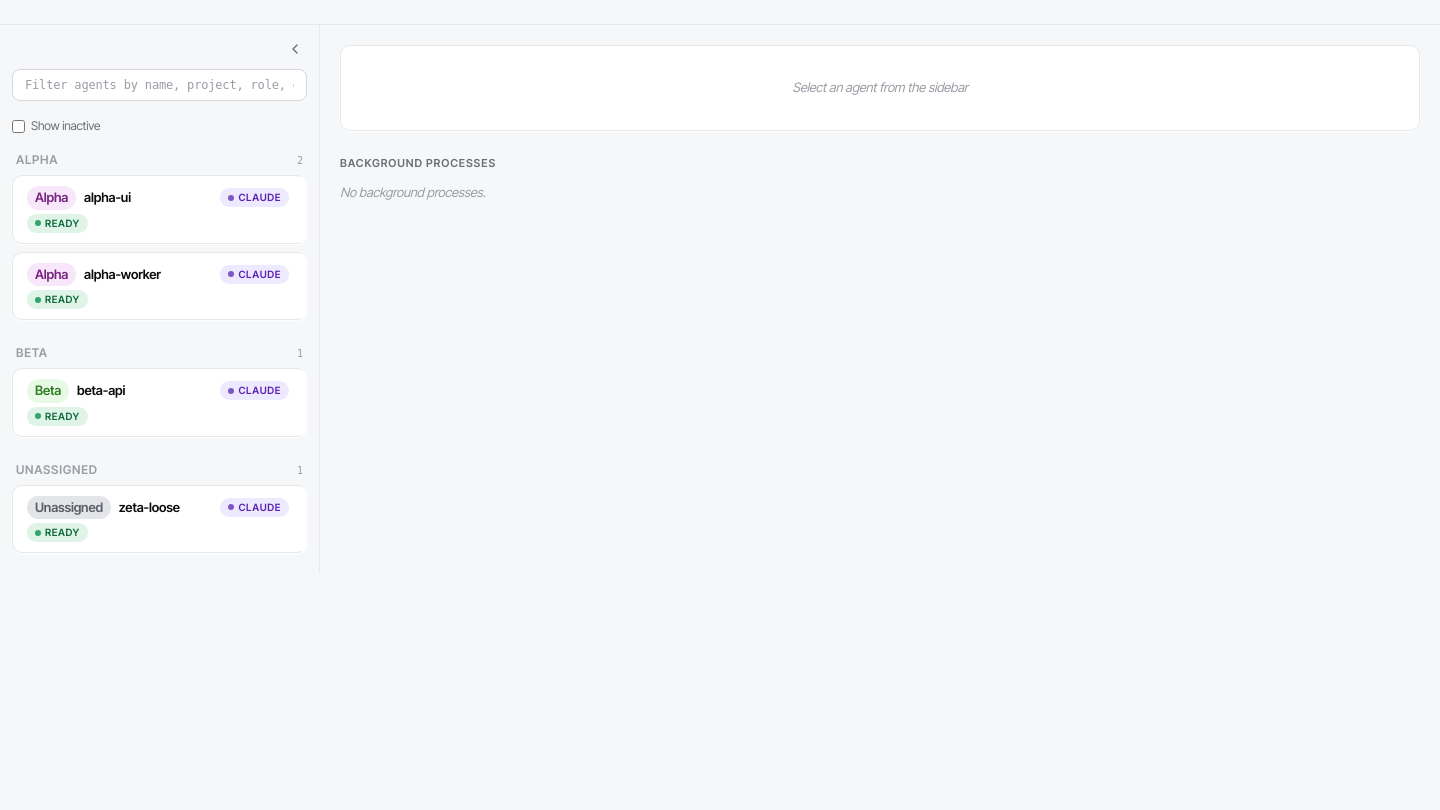
Test: AgentList sidebar (project grouping, TASK-0170) › switching rows remounts the view, dropping the previous agent's local state such as an open rename input (TASK-0173)
Step 1. Click the text "beta-api" → (101,390), box [77, 382, 125, 398]
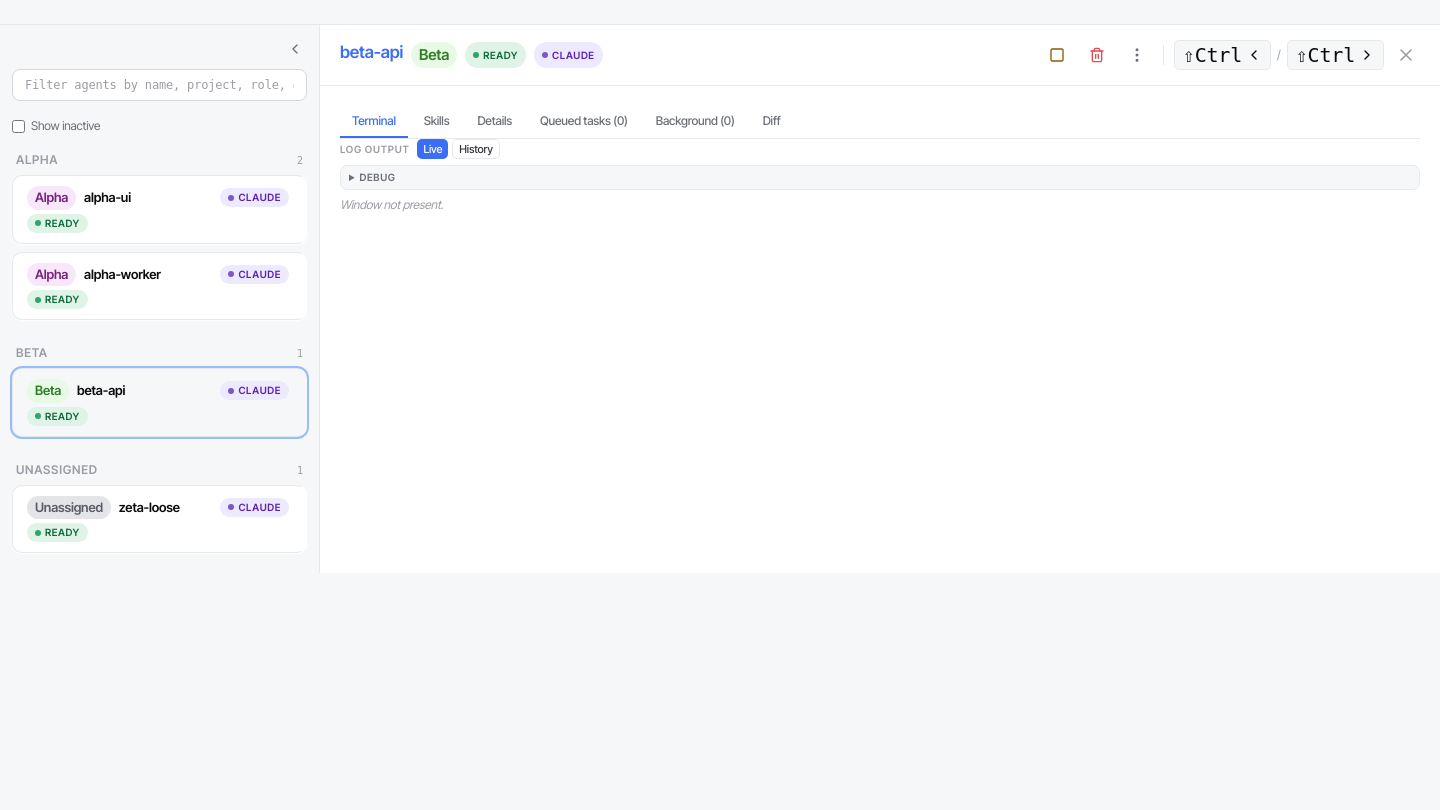
Step 2. Click the button named "Agent actions" → (1137,55), box [1121, 39, 1153, 71]
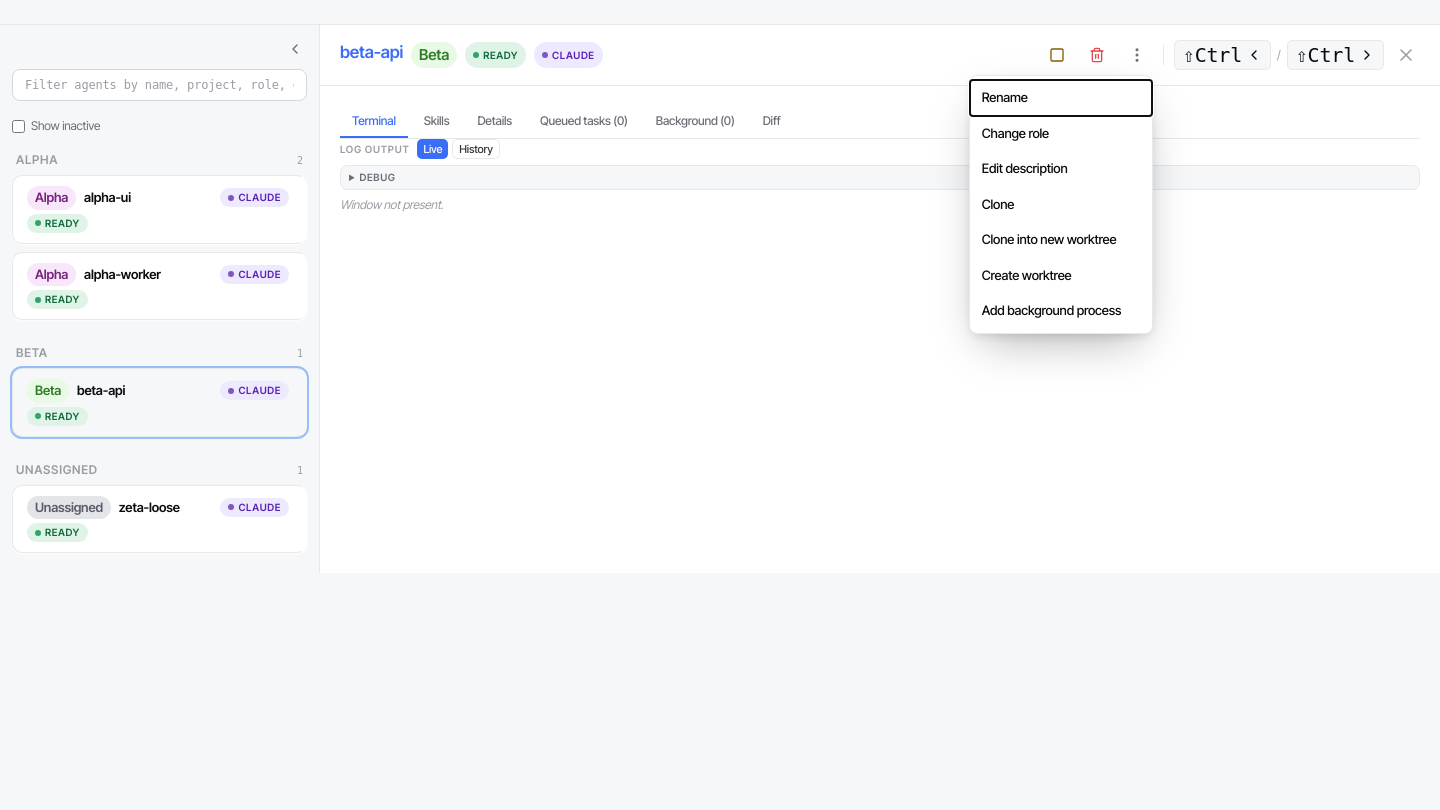
Step 3. Click the menu item "Rename" → (1061,98), box [970, 80, 1152, 116]
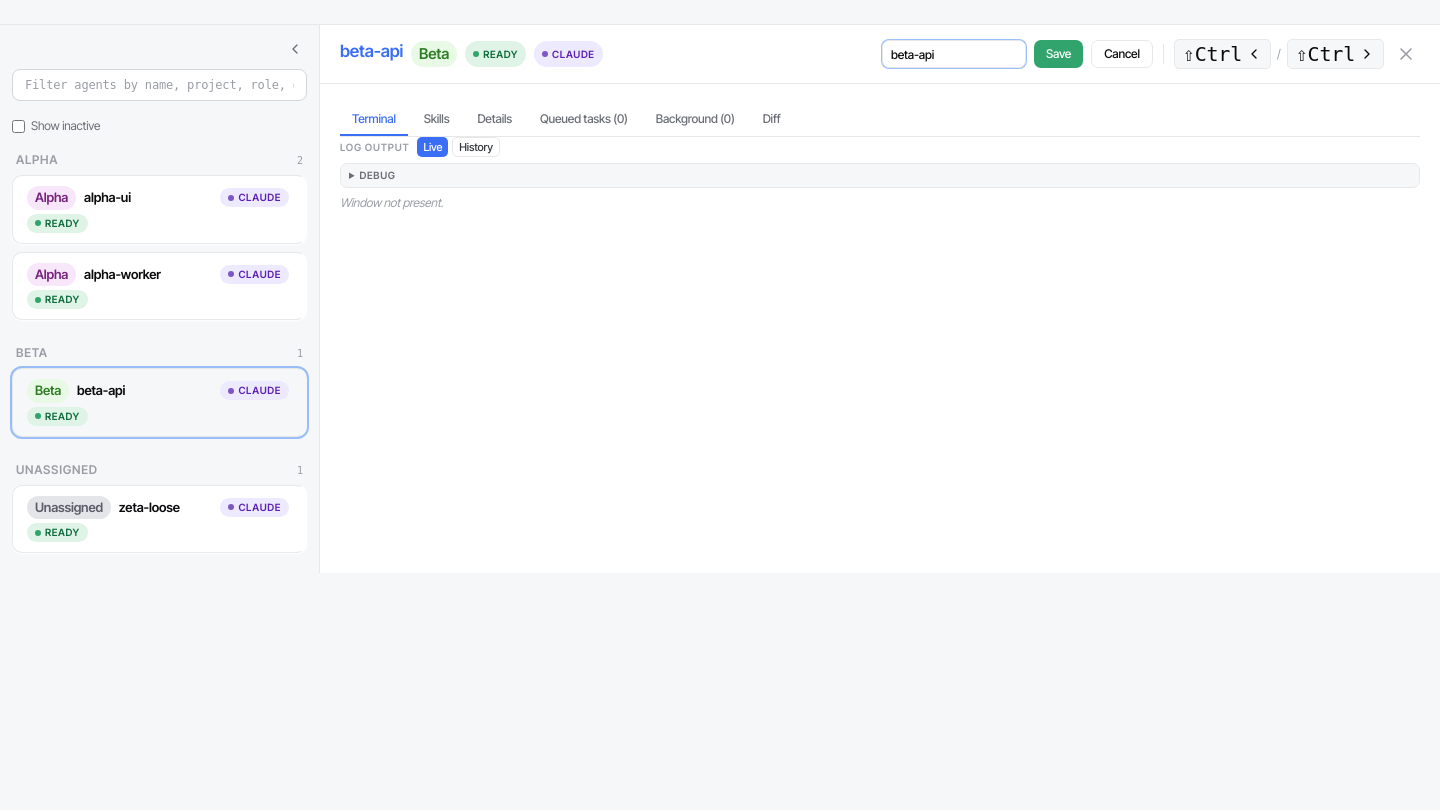
Check: the field showing "beta-api" is shown, box [882, 40, 1026, 68]
Step 4. Click the text "alpha-ui" → (108,197), box [84, 189, 131, 205]
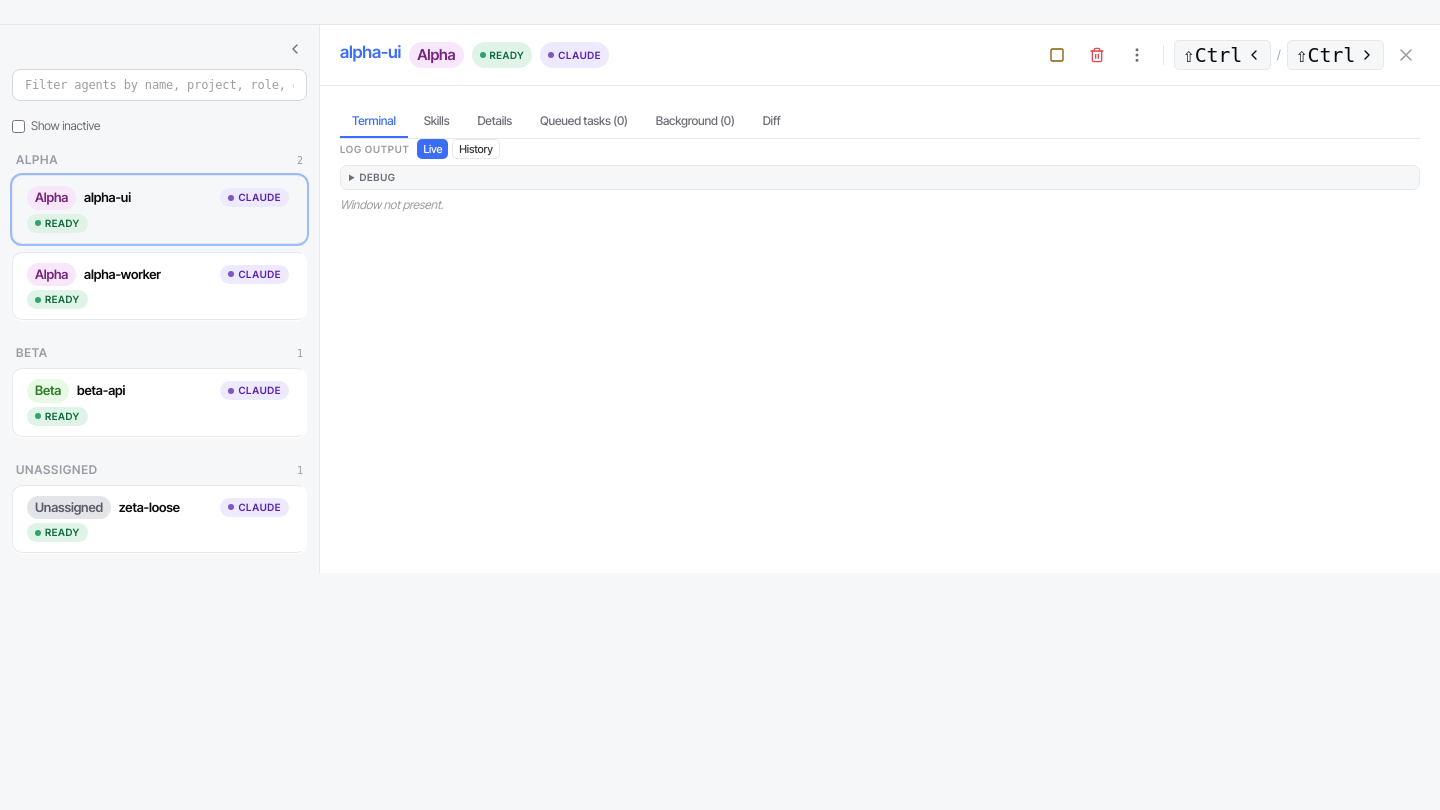
Check: the button named "Agent actions" is shown, box [1121, 39, 1153, 71]
